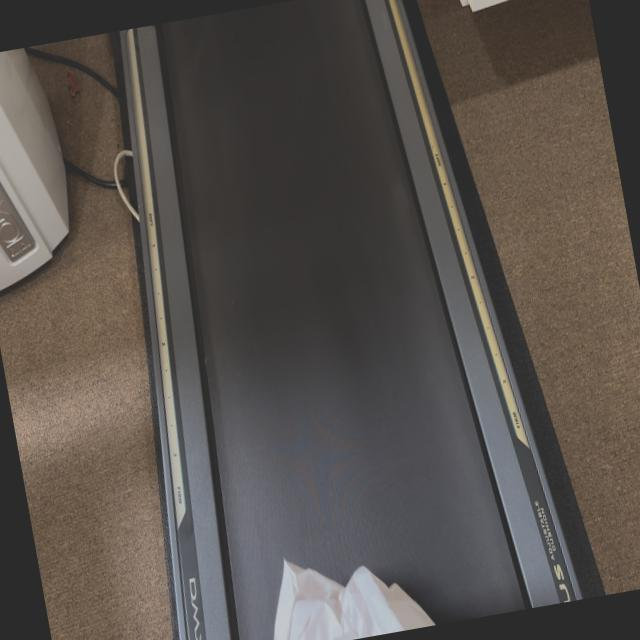Recycle: (253, 530, 439, 640)
